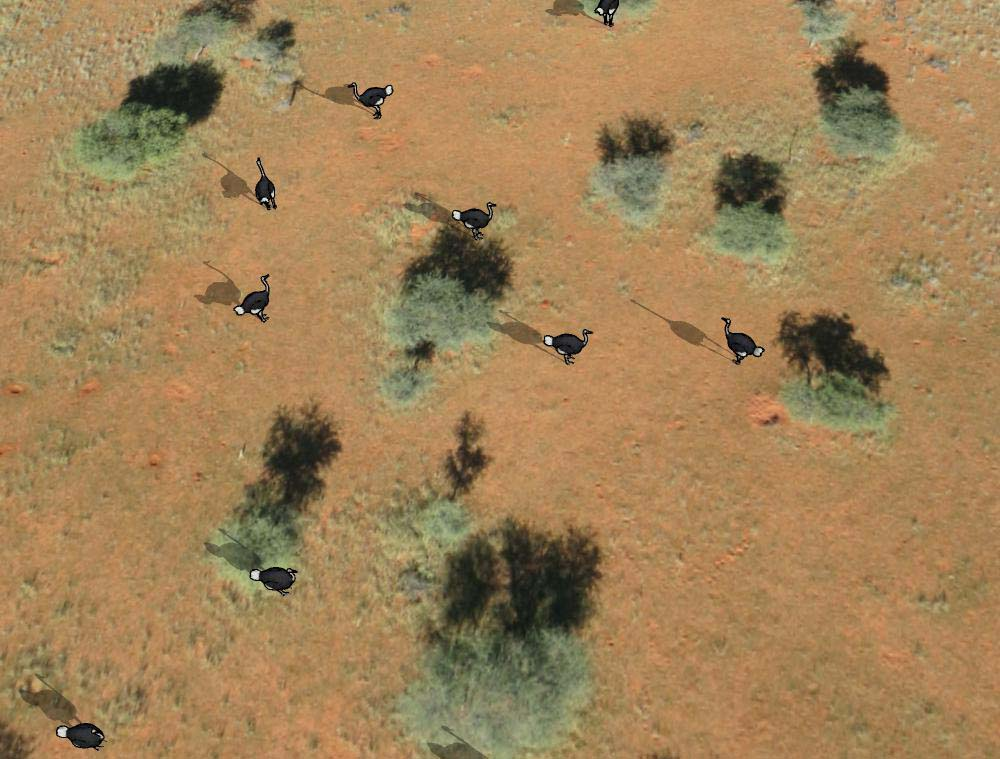springbok: (716, 312, 769, 372), (453, 194, 512, 247), (231, 269, 278, 326), (542, 322, 592, 372), (244, 154, 283, 213), (246, 560, 303, 600), (53, 715, 109, 754), (343, 72, 387, 116), (594, 1, 629, 29)
